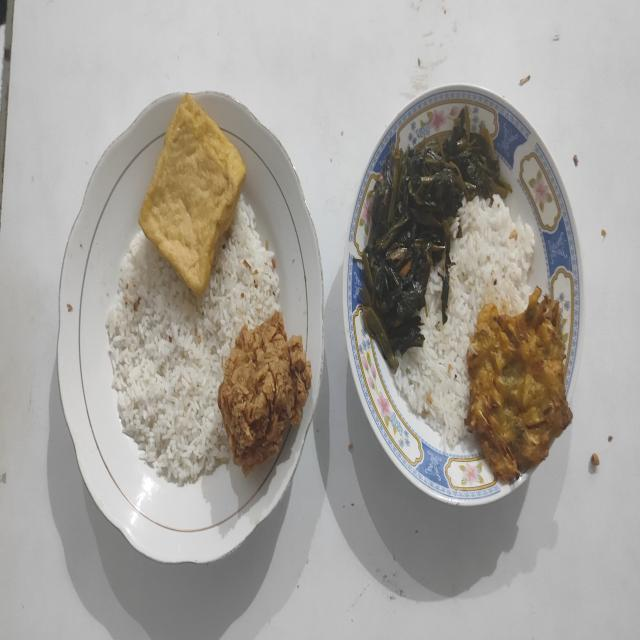nasi_putih: (106, 197, 280, 487), (396, 196, 534, 447)
tahu_goreng: (139, 94, 246, 294)
tumis_kangkung: (358, 107, 512, 369)
